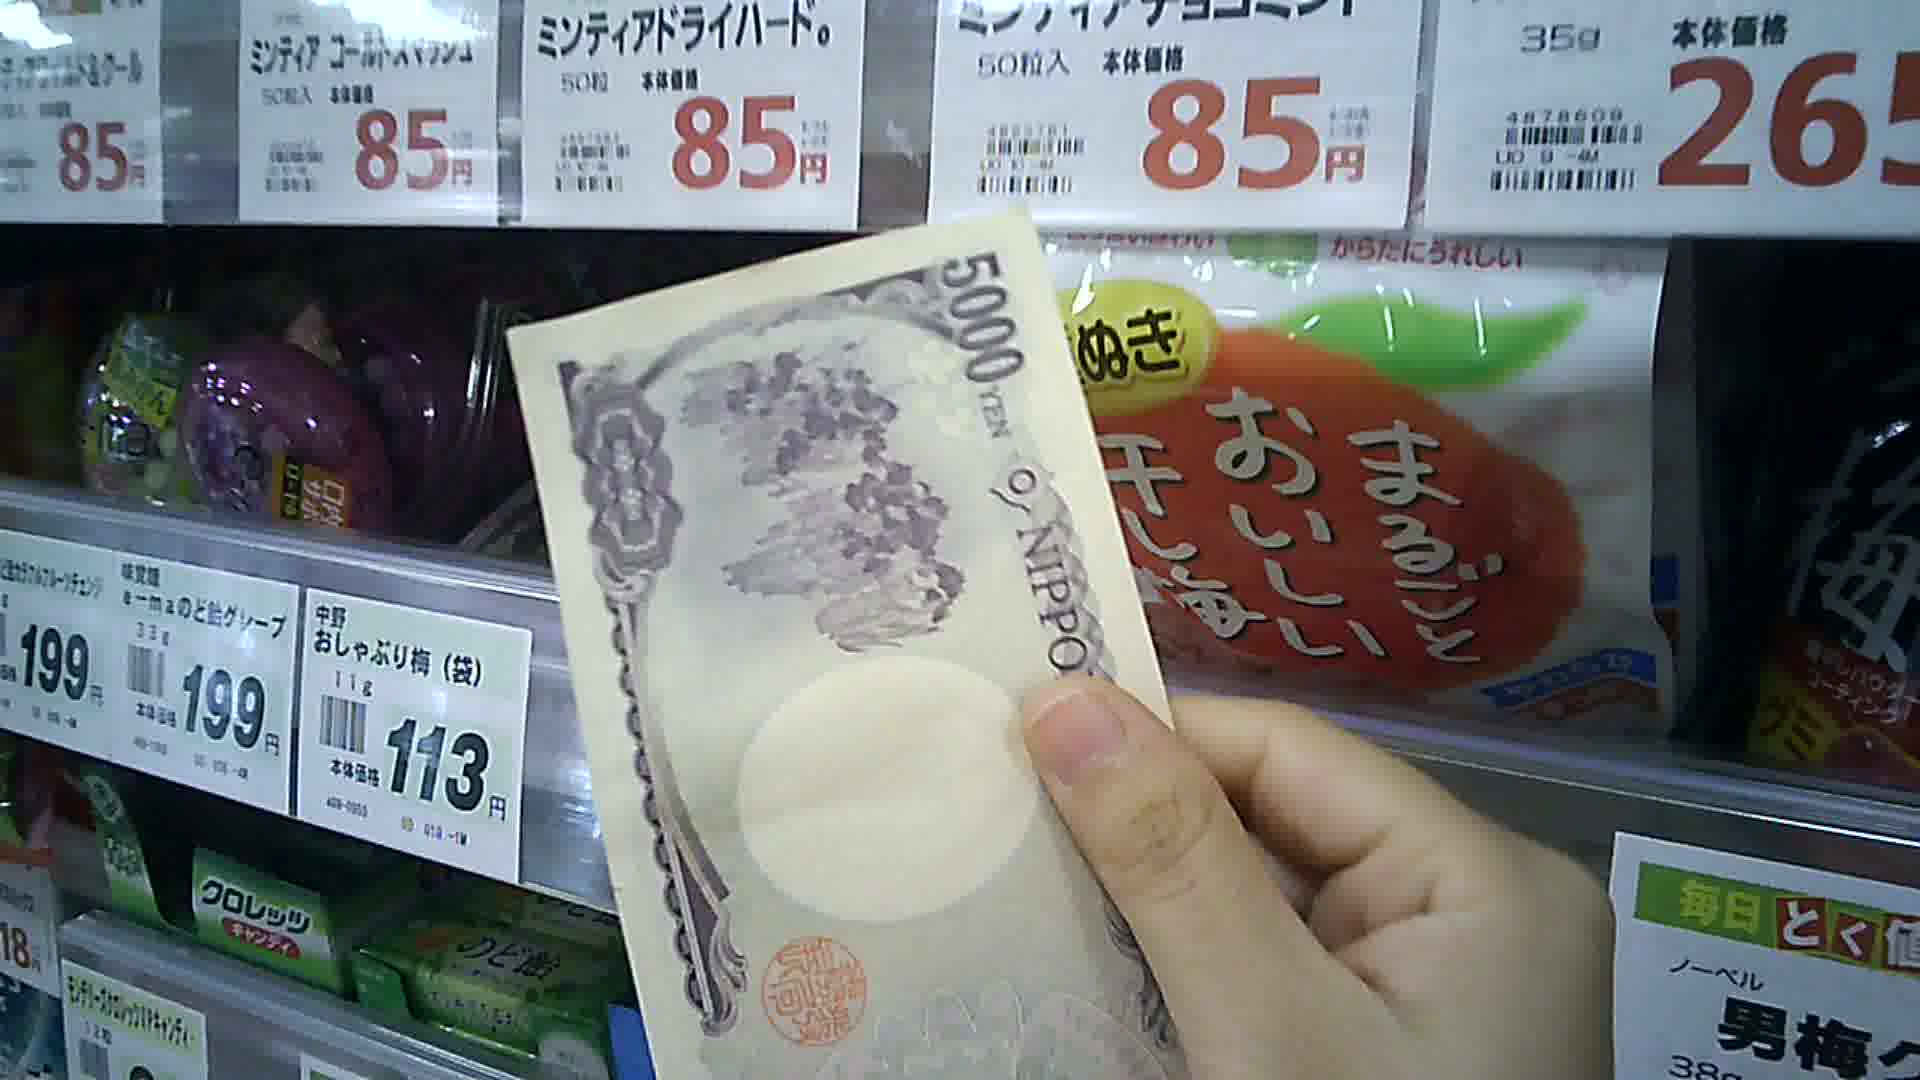5,000 Yen: (492, 202, 1213, 1079)
